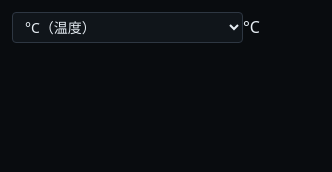
Test: UnitSelect › 候補を選ぶと、その単位になる
The image size is (332, 172).
Select "MPa（圧力）" in the dropdown named "単位" at [128, 28], box [12,12,243,43]
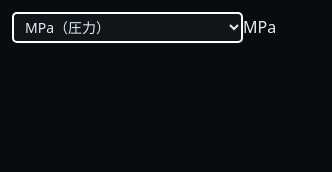
Result: the text with test id "value" reads "MPa" at [243,16,276,38]
